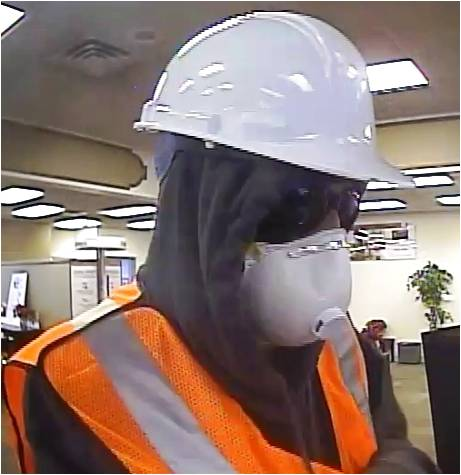helmet: (126, 3, 418, 178)
